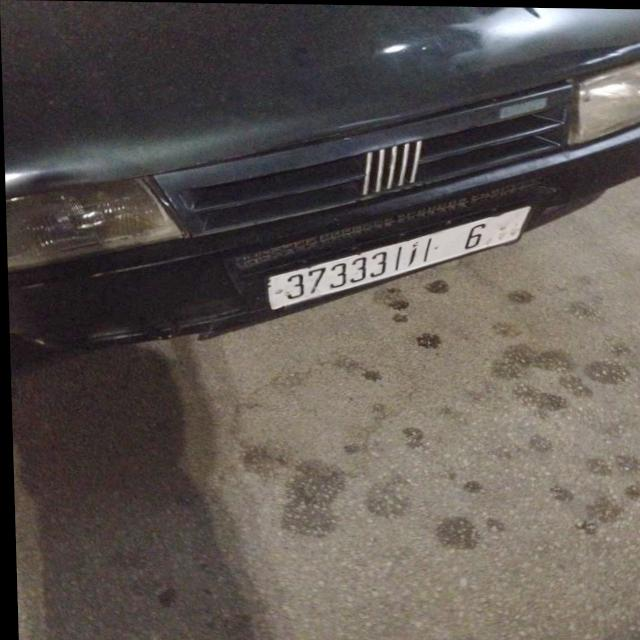License-Plate: (266, 205, 530, 308)
